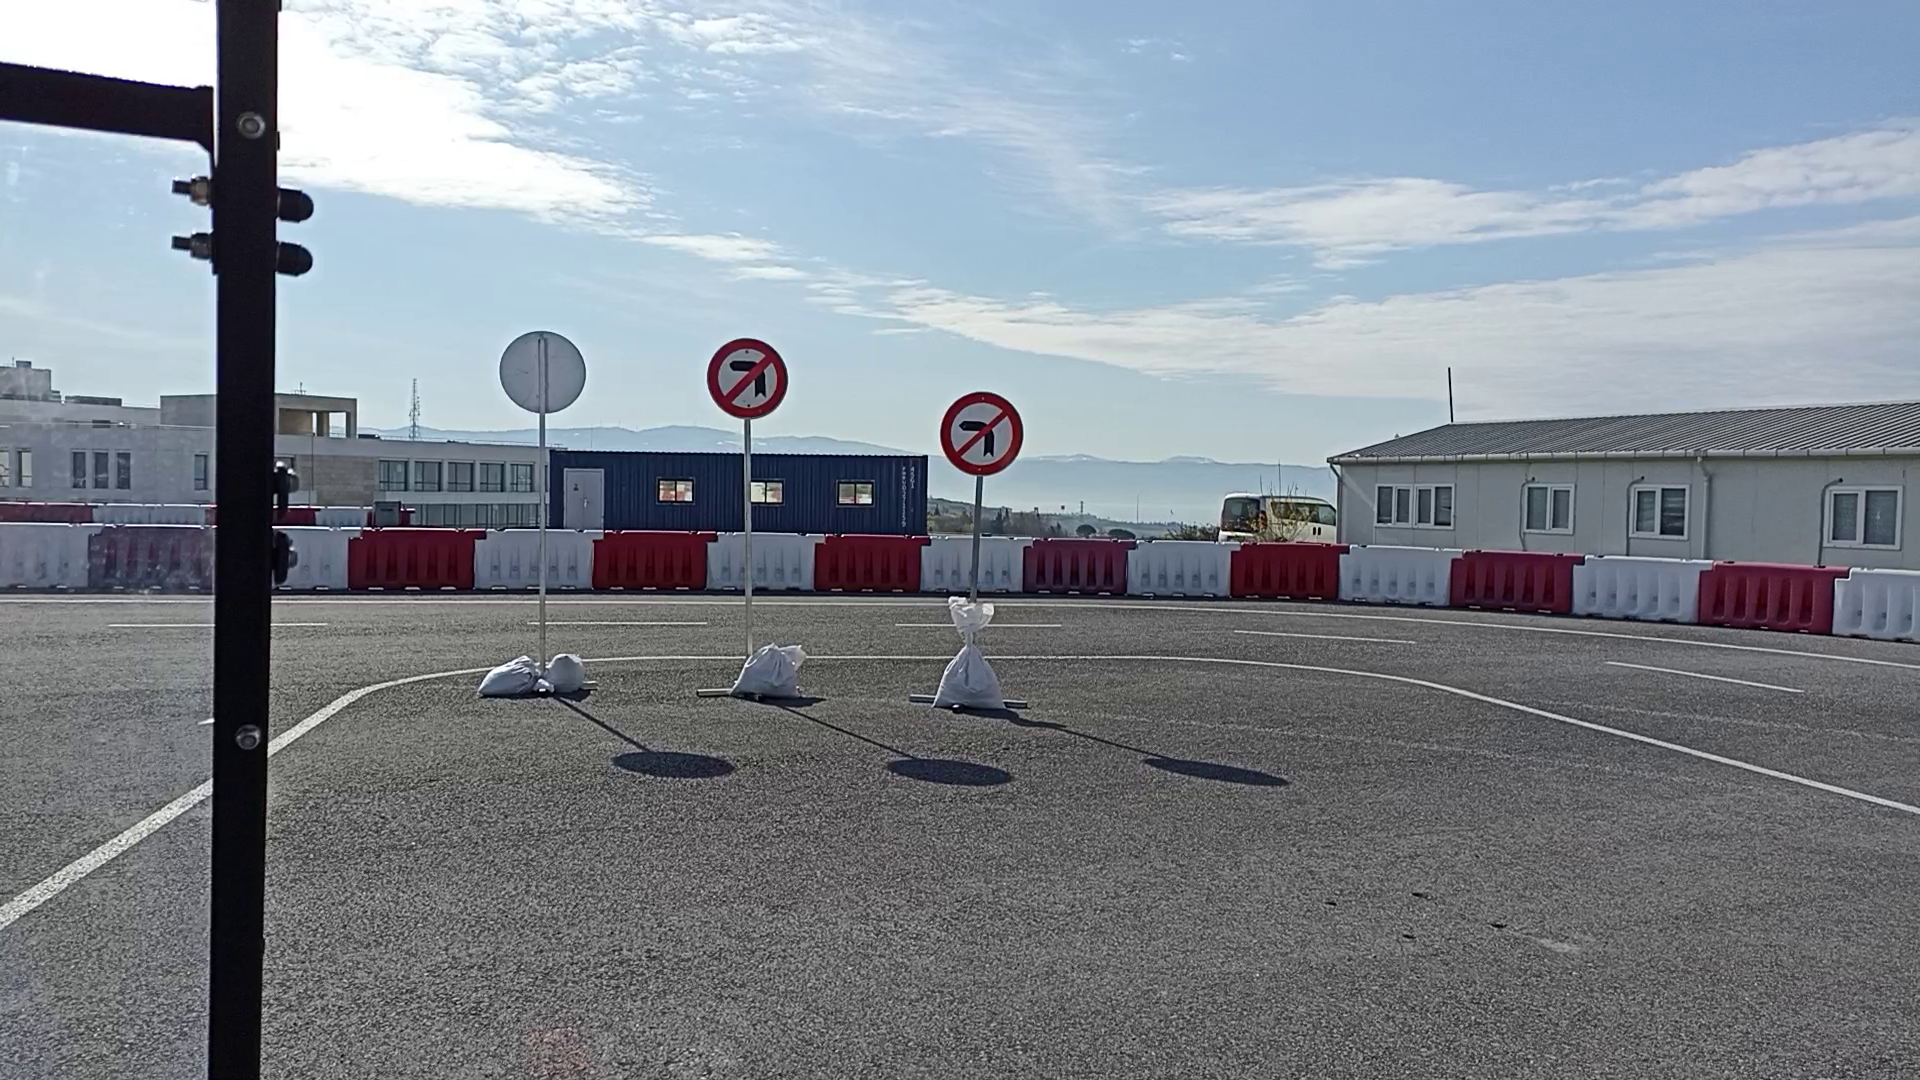noleft: (938, 389, 1027, 479), (704, 336, 789, 421)
